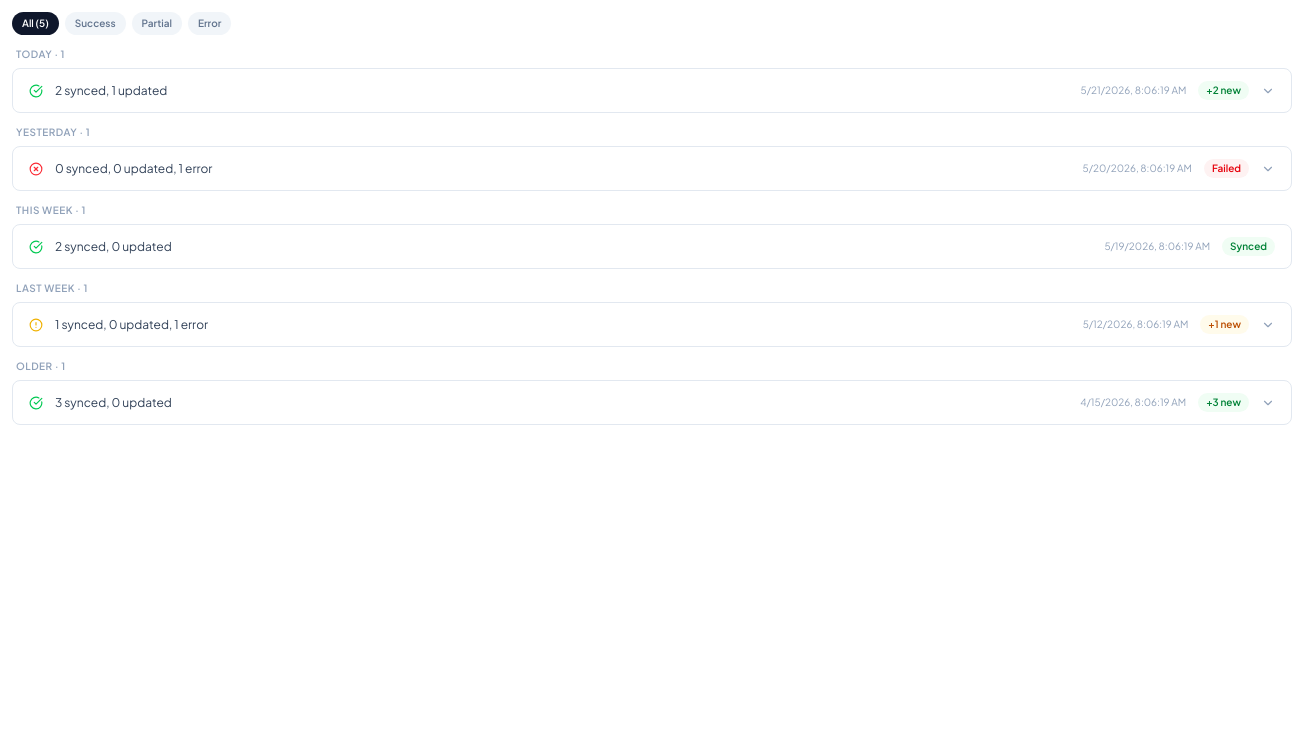
Scenario: History › collapses a row when clicked again
Click the list item "2 synced, 1 updated 5/21/2026, 8:06:19 AM +2 new".
click(652, 90)  # box [12, 68, 1291, 113]
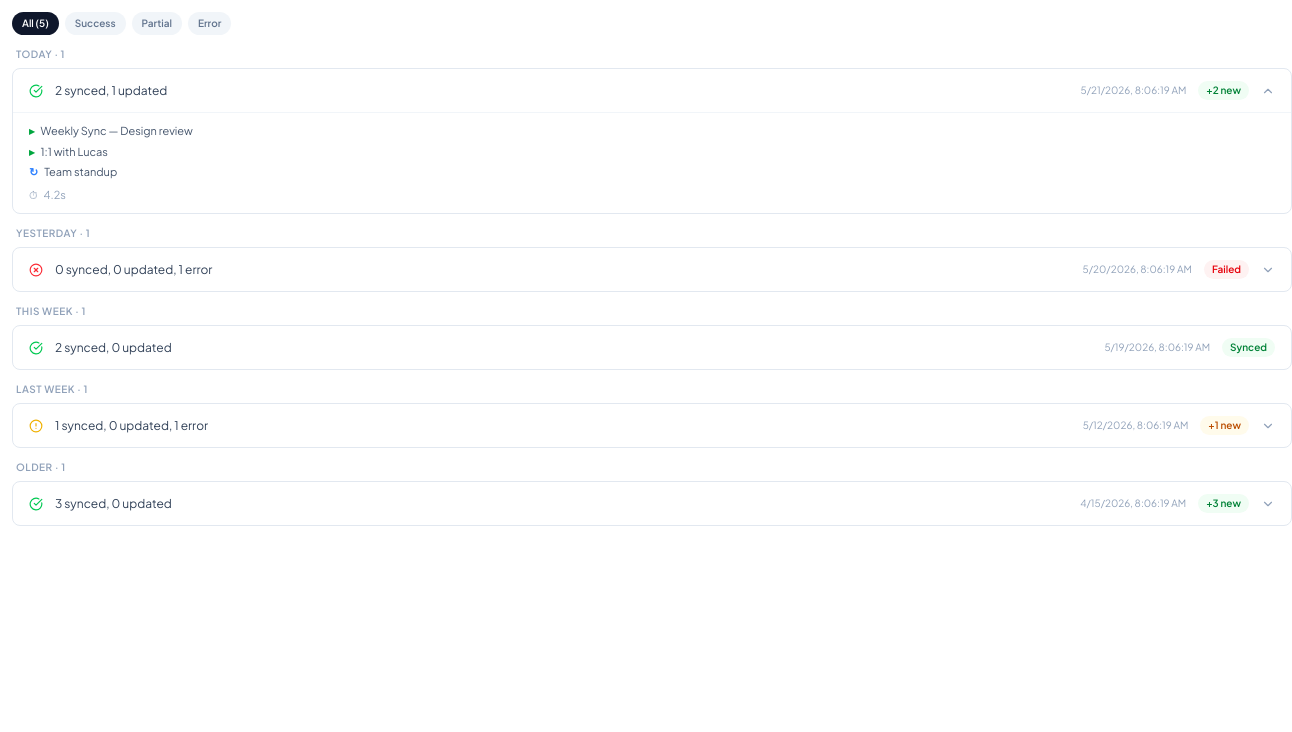
Expected: the text "Weekly Sync — Design review" is shown, [40, 124, 193, 137]
Click the list item that starts with "2 synced, 1 updated".
click(652, 141)  # box [12, 68, 1291, 214]
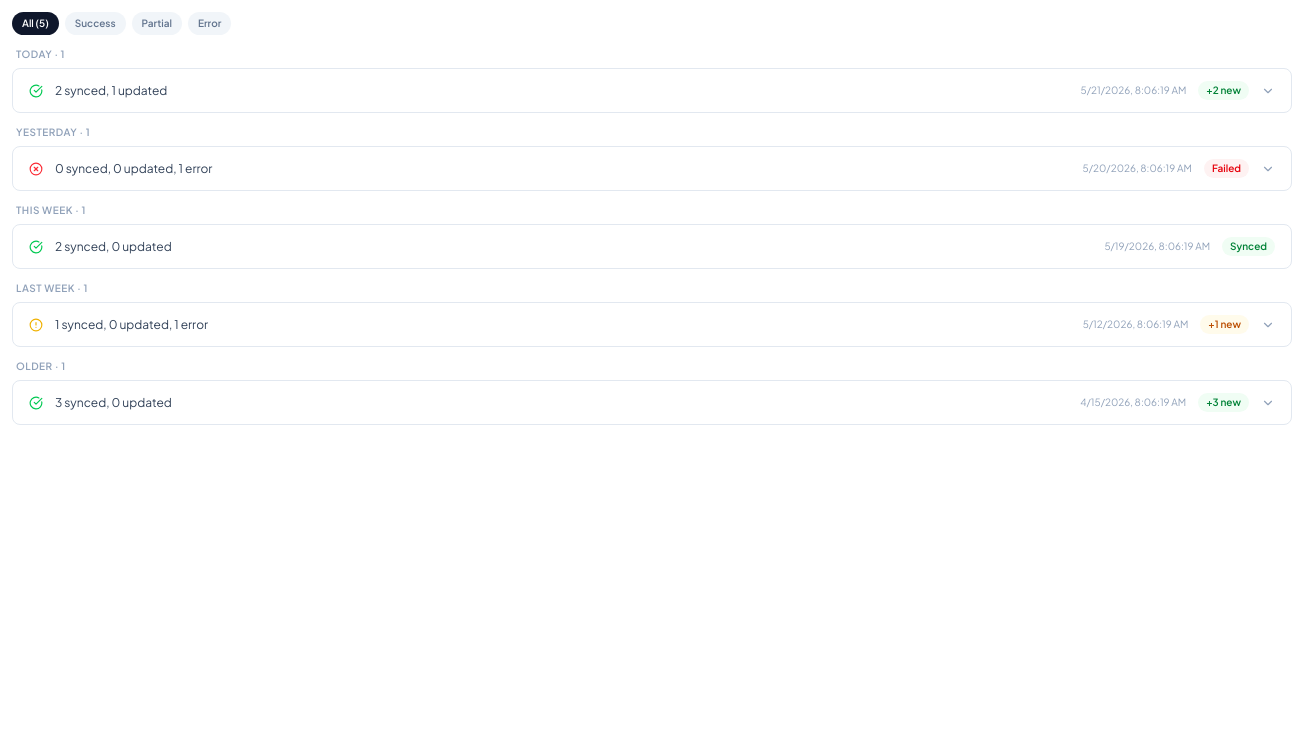
Expected: the text "Weekly Sync — Design review" is gone
